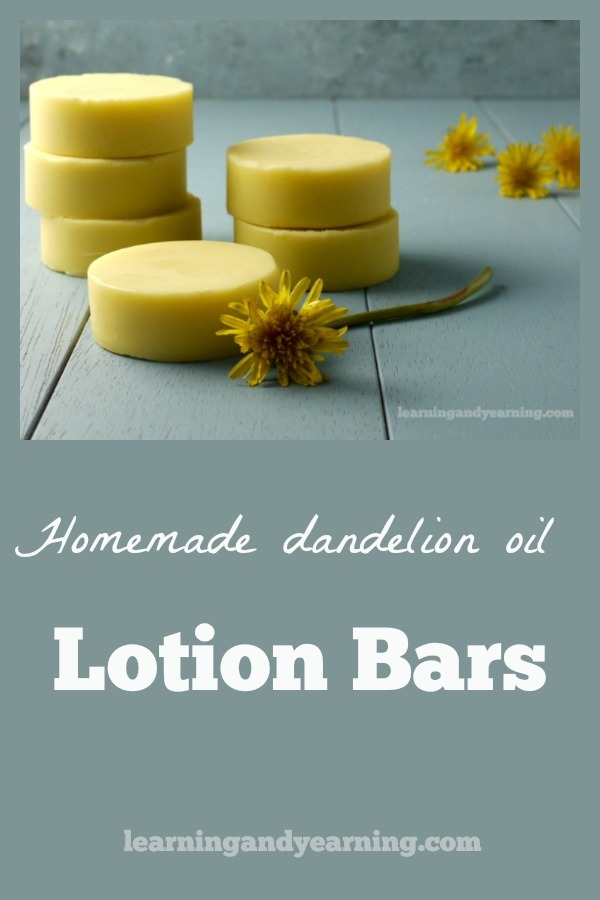dandelion: (243, 304, 341, 372), (493, 139, 547, 198), (440, 127, 483, 172), (551, 131, 581, 194)
